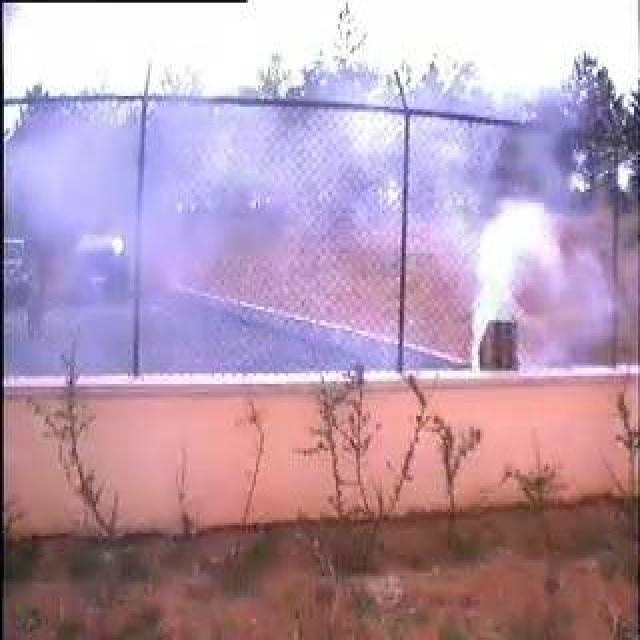Smoke: (25, 125, 547, 363)
